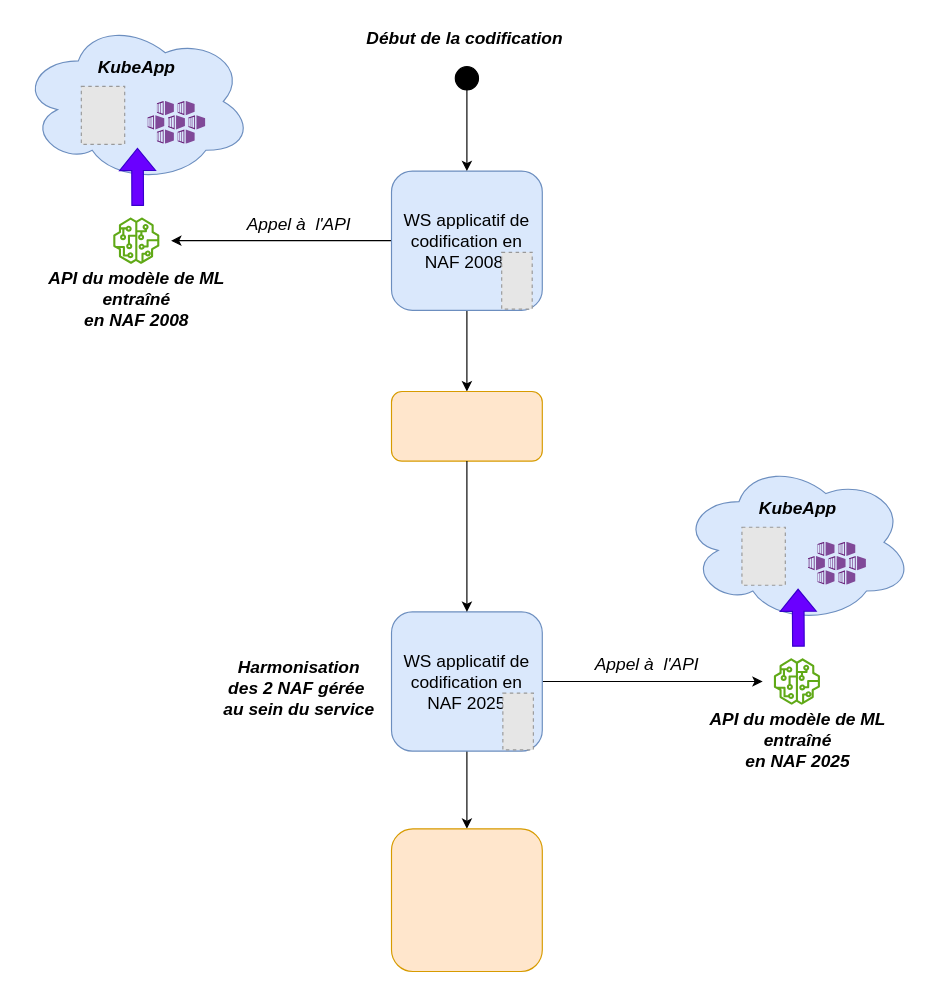
Some shapes in this 934 by 992 pixel diagram are drawn without their labels. Grey dashed boxes stand in for pictures. Here are the shapes that lost their labels. From the top down, the centre of each, then its label:
the point at 466,425: Code NAF 2008
the point at 466,899: Code NAF 2025
